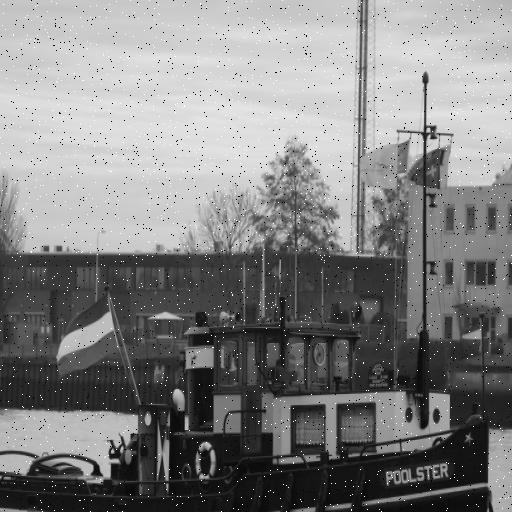tugboat: (1, 279, 501, 512)
